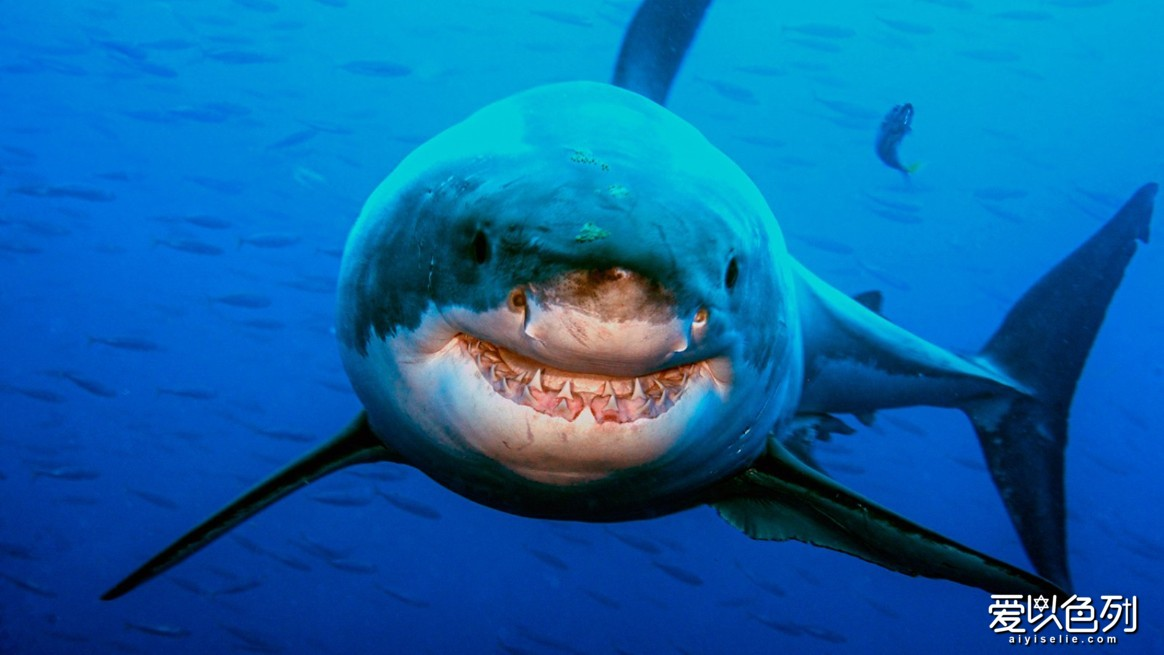shark: (89, 5, 1164, 615)
